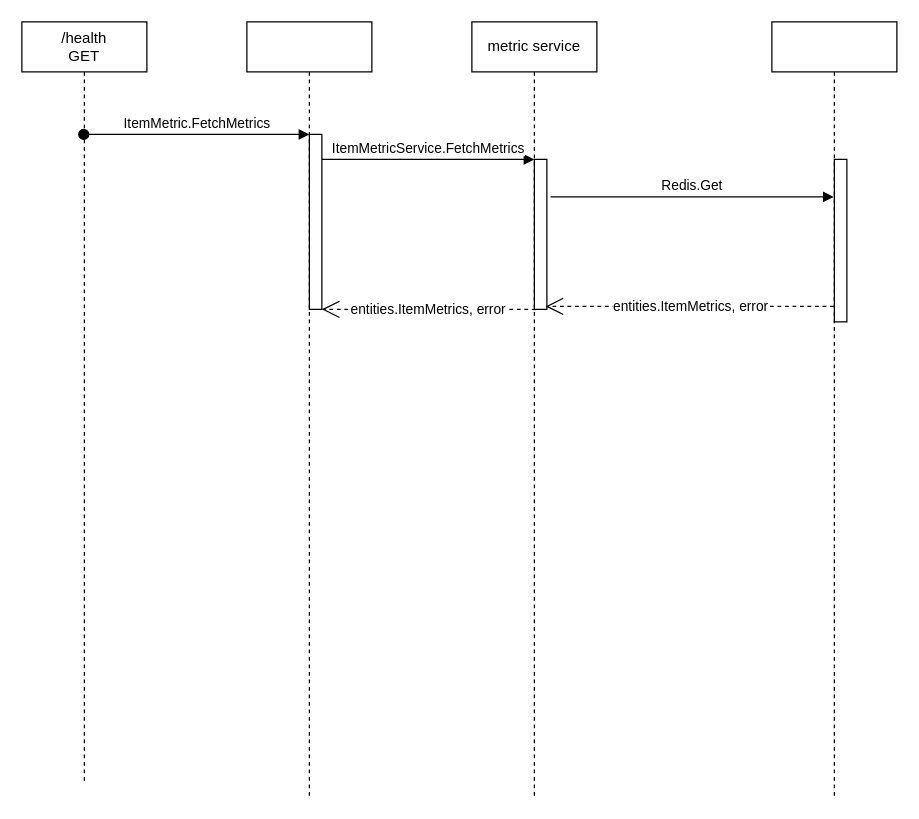
This 919x819 diagram has some shape labels left out. Here are the shapes that lost their labels. From the top down, the box of each, then its label:
(246, 21, 372, 797): metric handle
(771, 21, 897, 797): Redis
